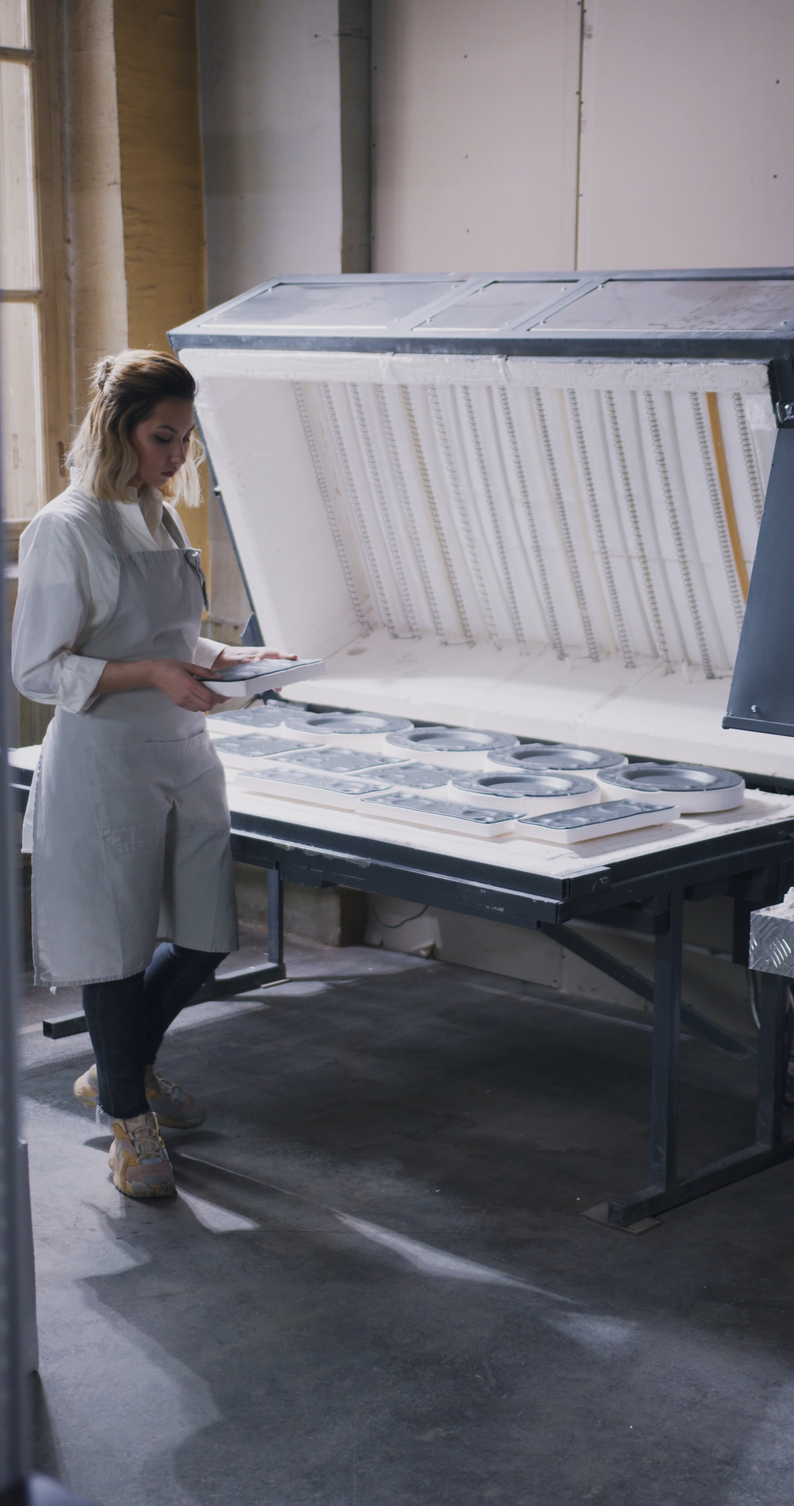No-gloves: (125, 636, 233, 724)
